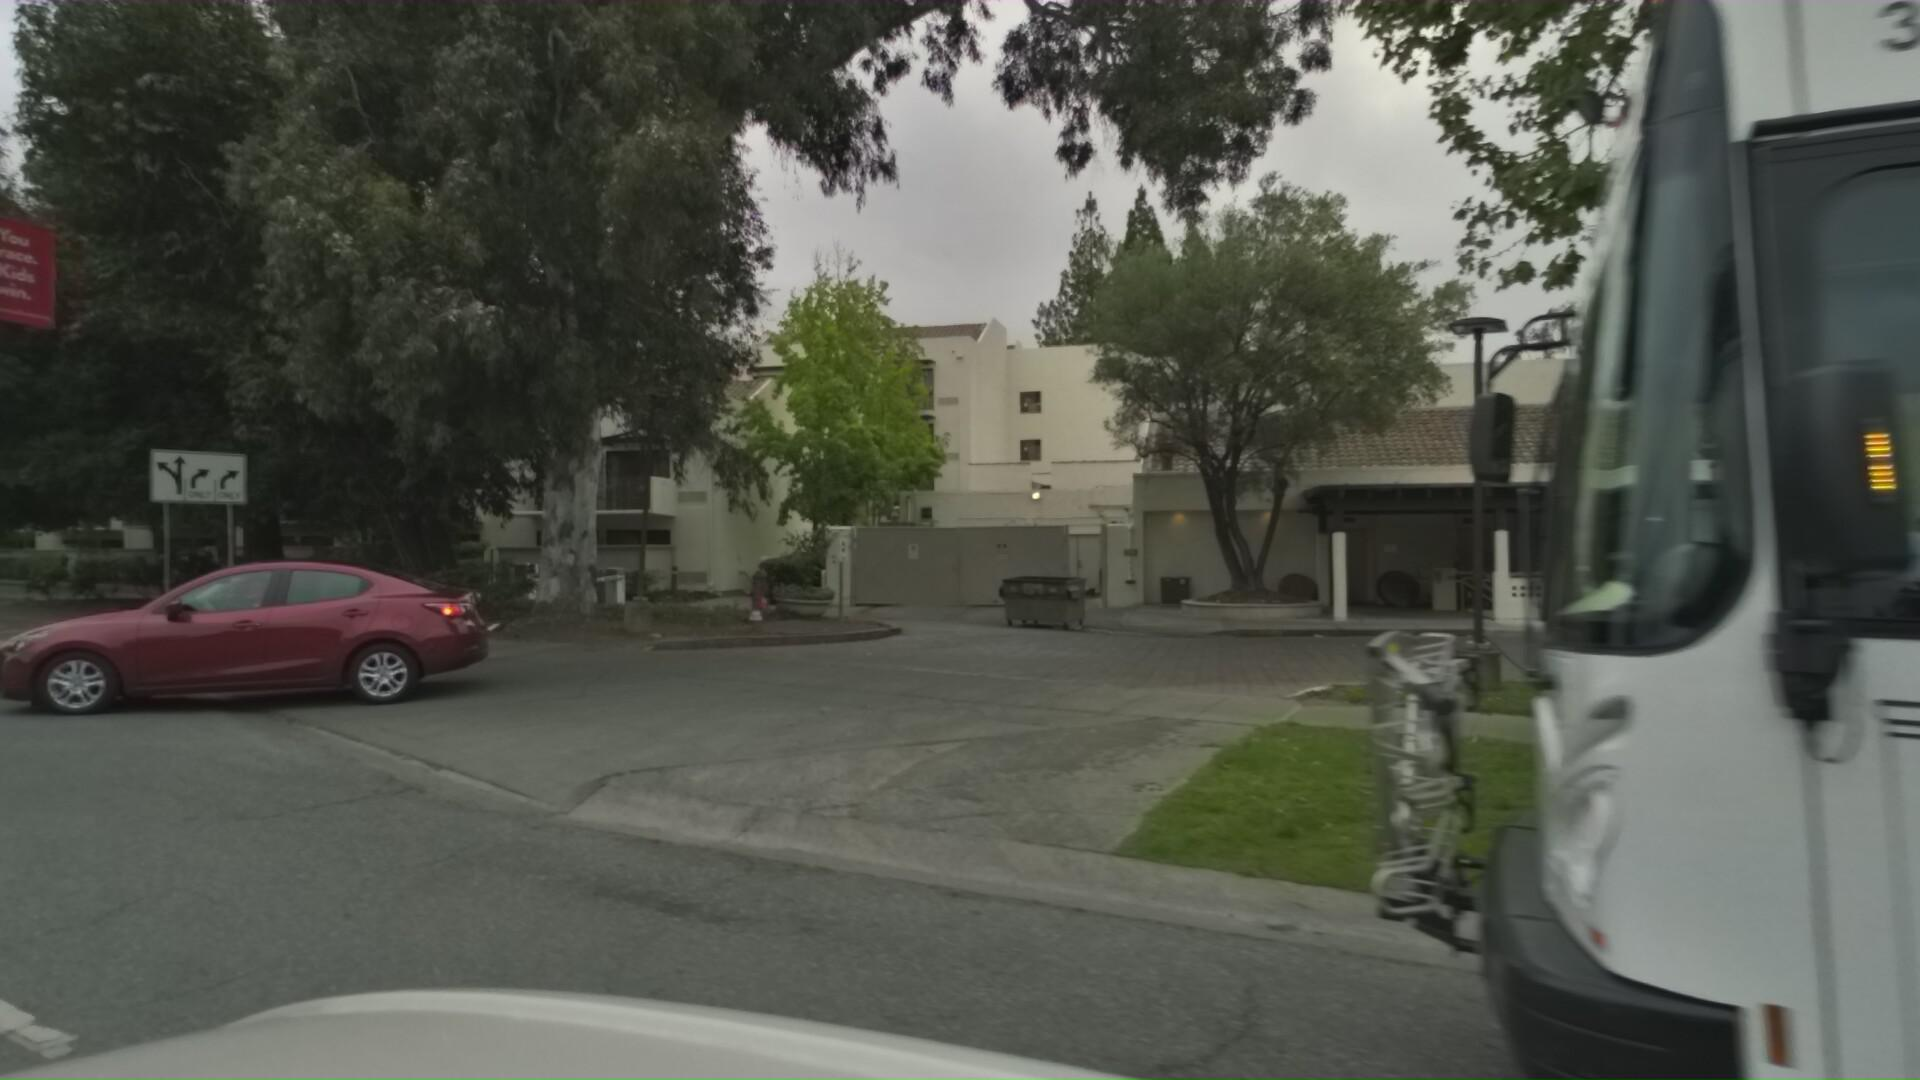car: (0, 558, 514, 750)
